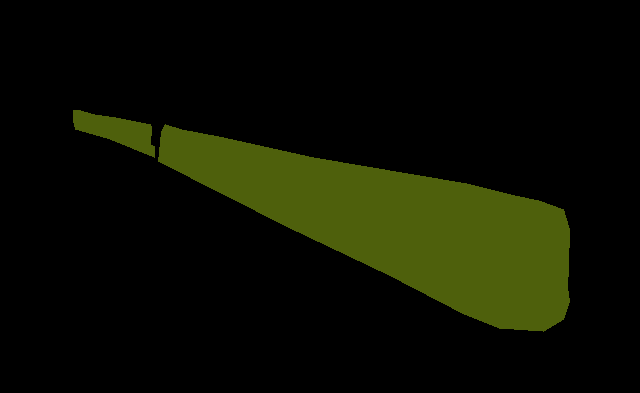Train: (73, 110, 569, 332)
